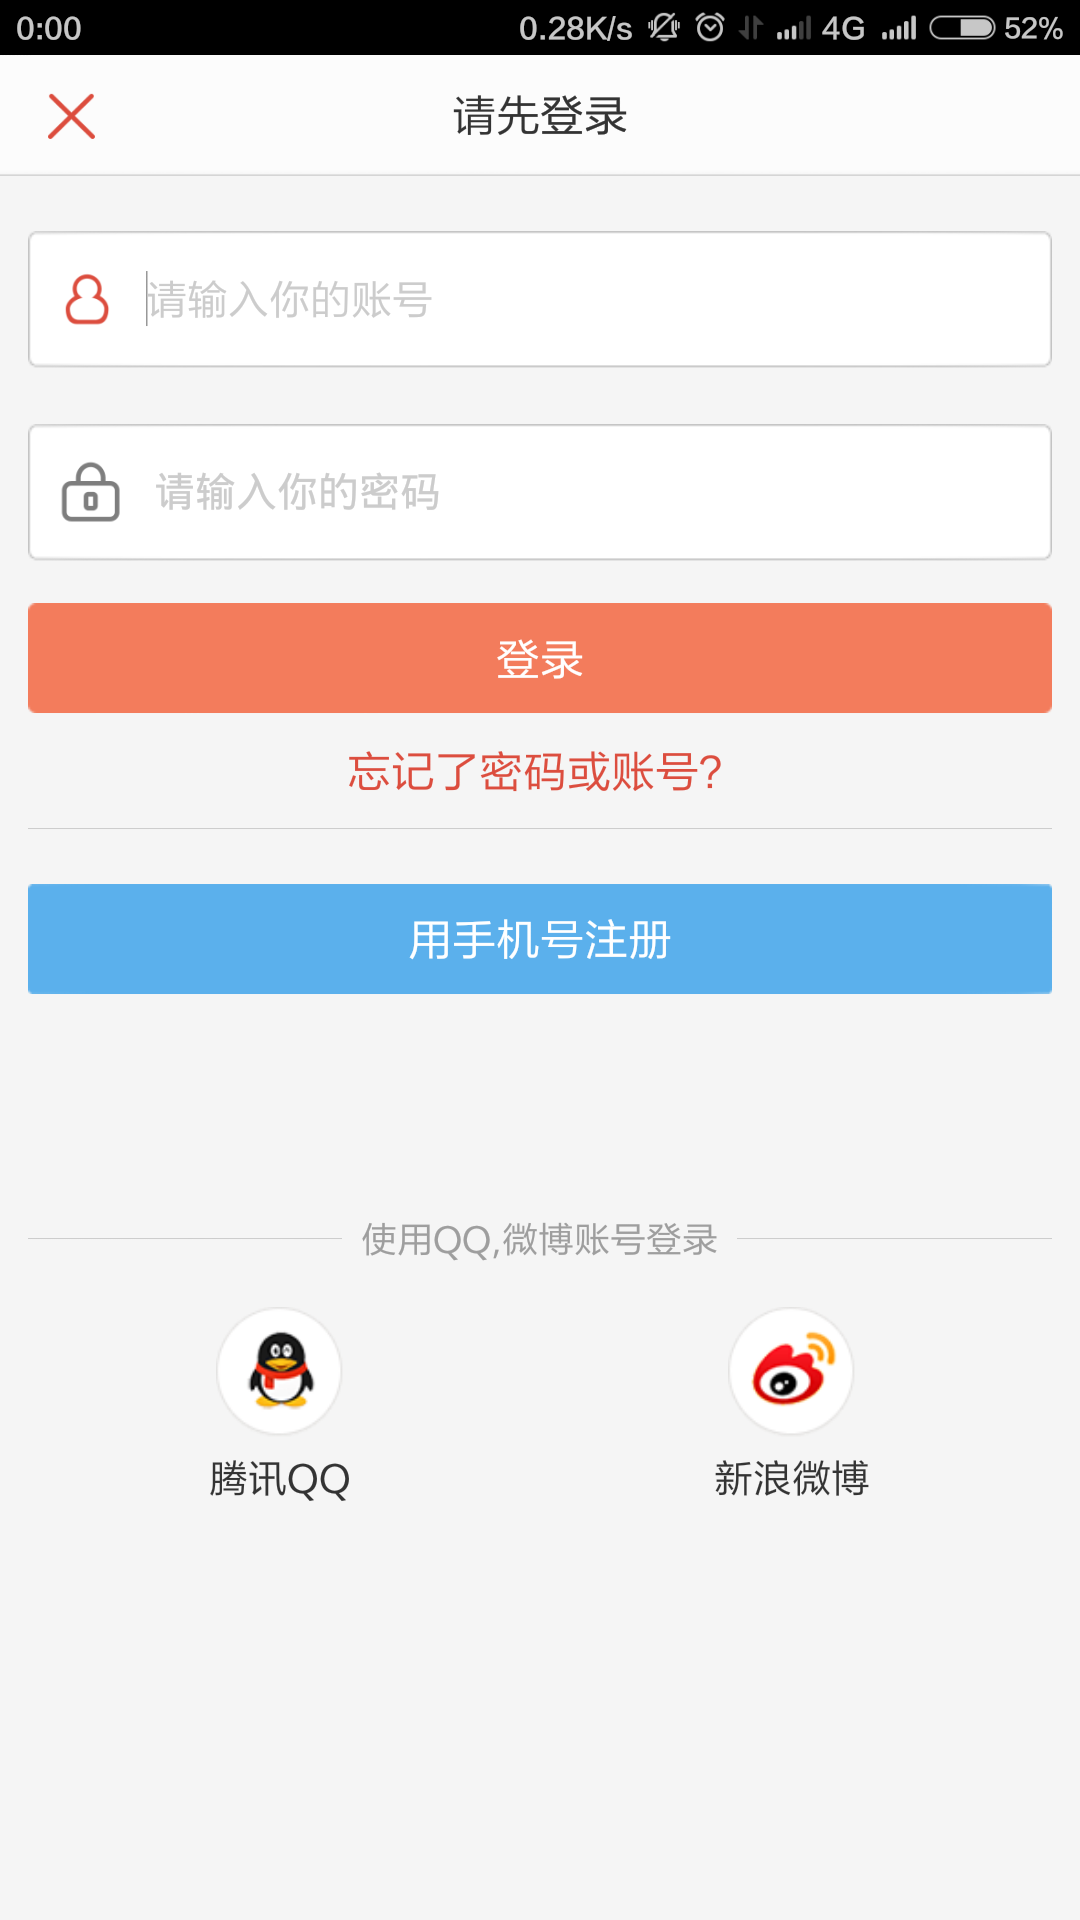button: (11, 870, 1080, 1048), (11, 593, 1069, 723)
imgbutton: (705, 1265, 969, 1563), (167, 1291, 427, 1497)
textview: (29, 218, 1077, 392)
